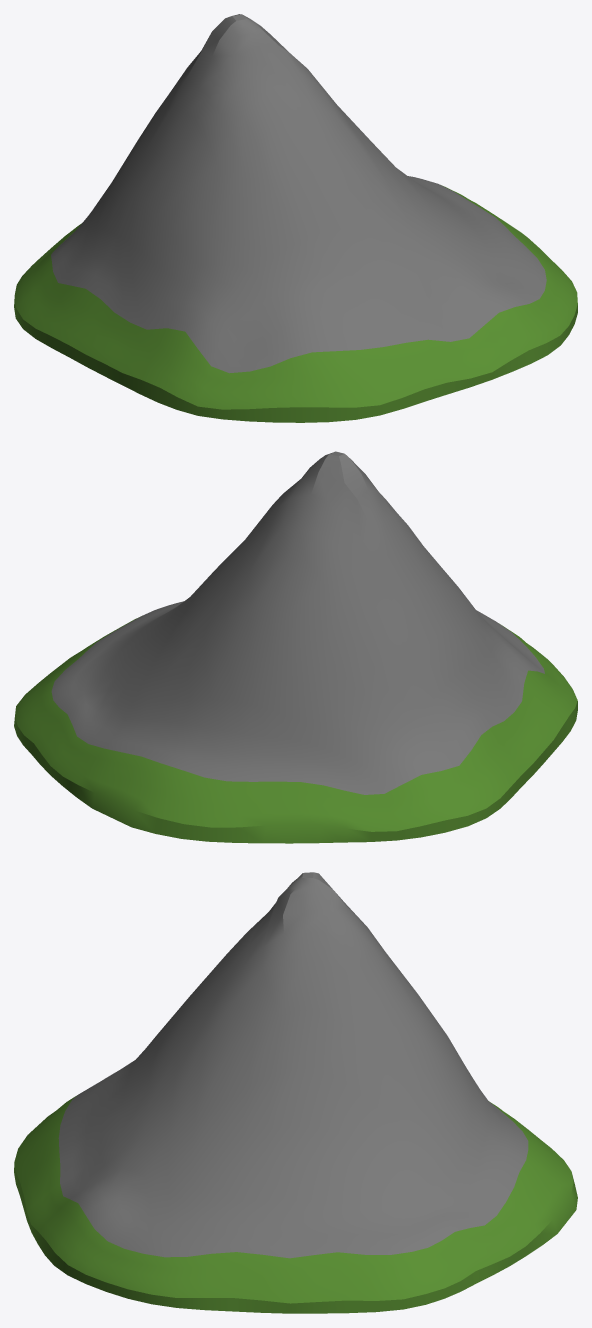
File: mountain.fbx
3 renders of one model, top to bottom at view 1: azimuth 30°, elevation 25°; view 2: azimuth 150°, elevation 25°; view 3: azimuth 270°, elevation 25°, orthographic. The views are drawn at different scales.
Visible parts, largest first — view 1: Cube.457; view 2: Cube.457; view 3: Cube.457.
Part boxes in pixels (<box>): Cube.457: <box>14,14,577,422</box>; Cube.457: <box>14,451,577,843</box>; Cube.457: <box>14,872,577,1313</box>.
Bounding box in the file's own units: 241 × 147 × 249.
1 material, 1 textured.
